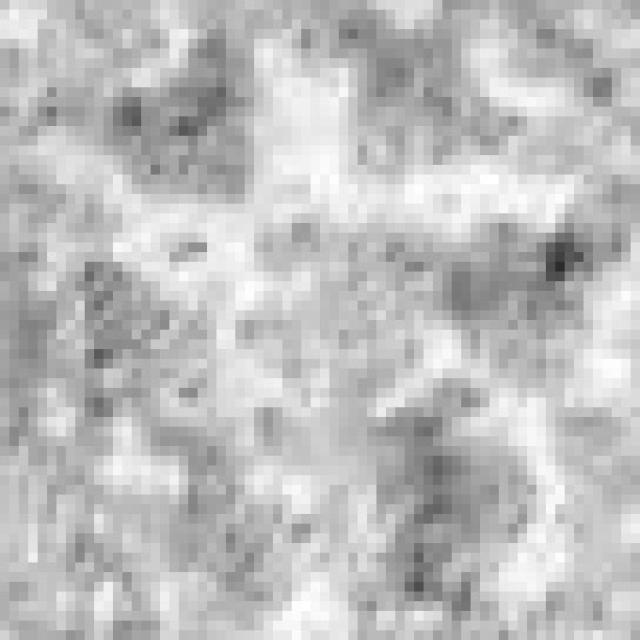inner: (223, 191, 453, 429)
lobe: (376, 380, 542, 610), (151, 417, 322, 621), (438, 216, 609, 406), (328, 12, 522, 175), (43, 262, 221, 416), (108, 32, 261, 204)
outer: (14, 0, 640, 640)
